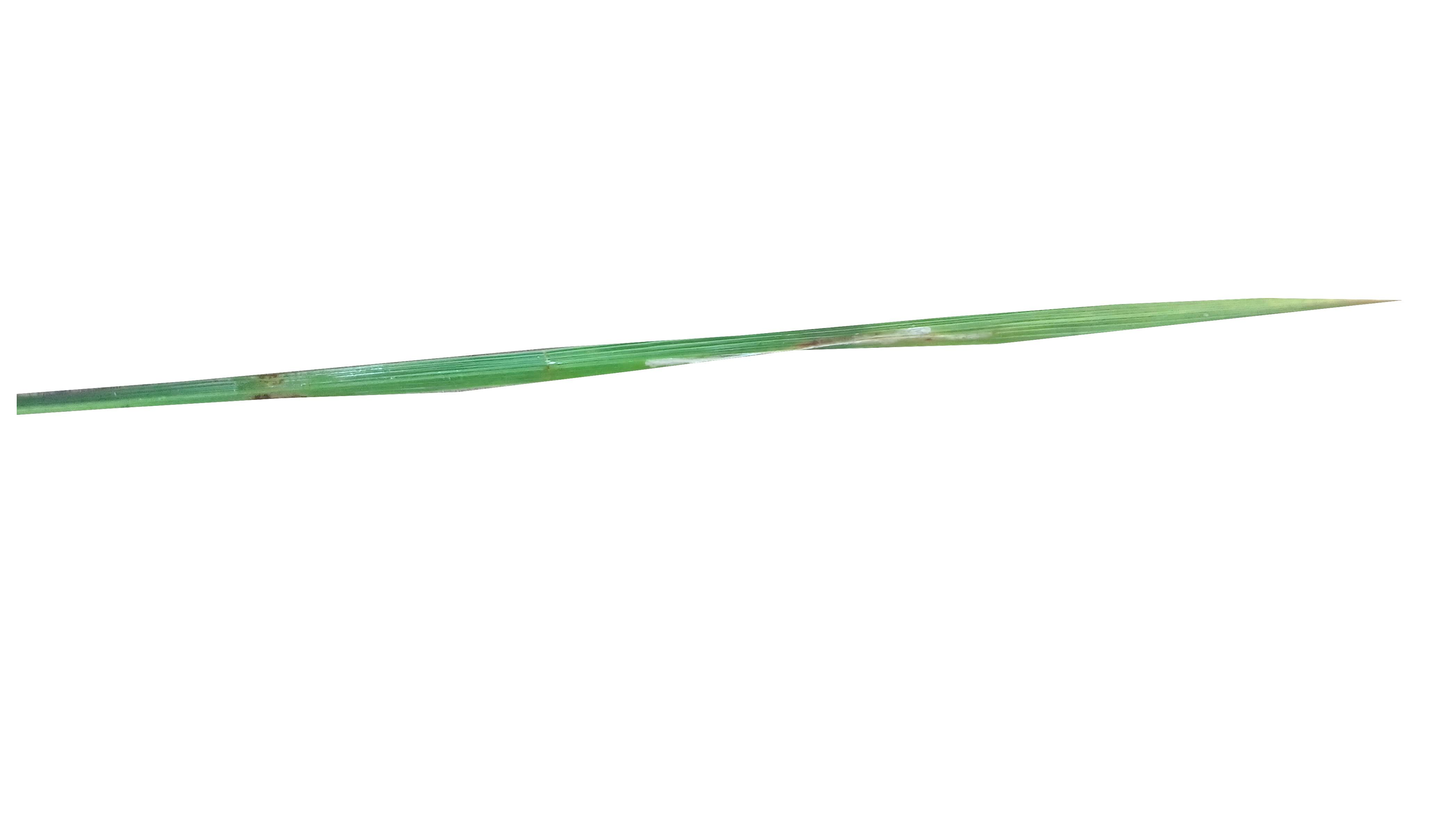Blight: (804, 329, 996, 343)
Rice blast: (243, 369, 315, 402)
